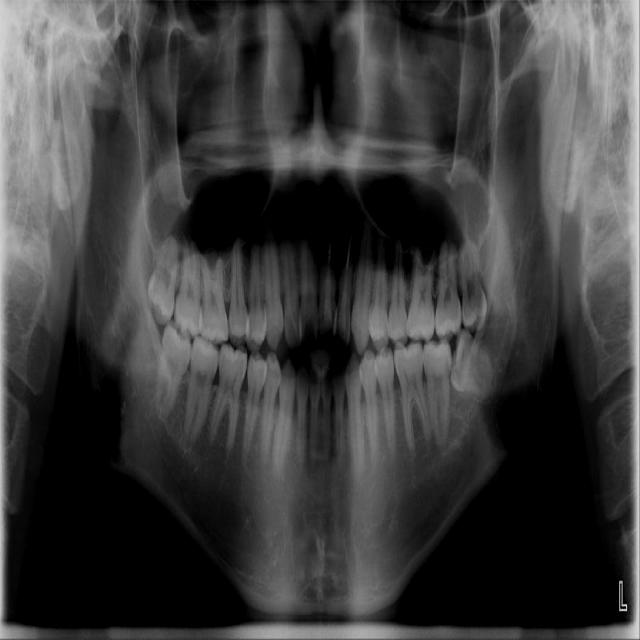Root Canal Treatment: (324, 253, 331, 325), (343, 243, 350, 309)
impacted tooth: (450, 330, 501, 399), (459, 237, 485, 332)
